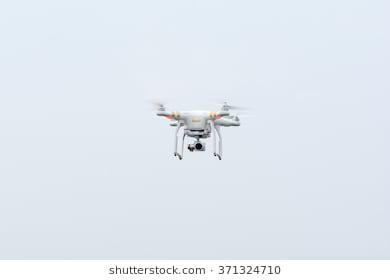drone: (143, 83, 258, 181)
